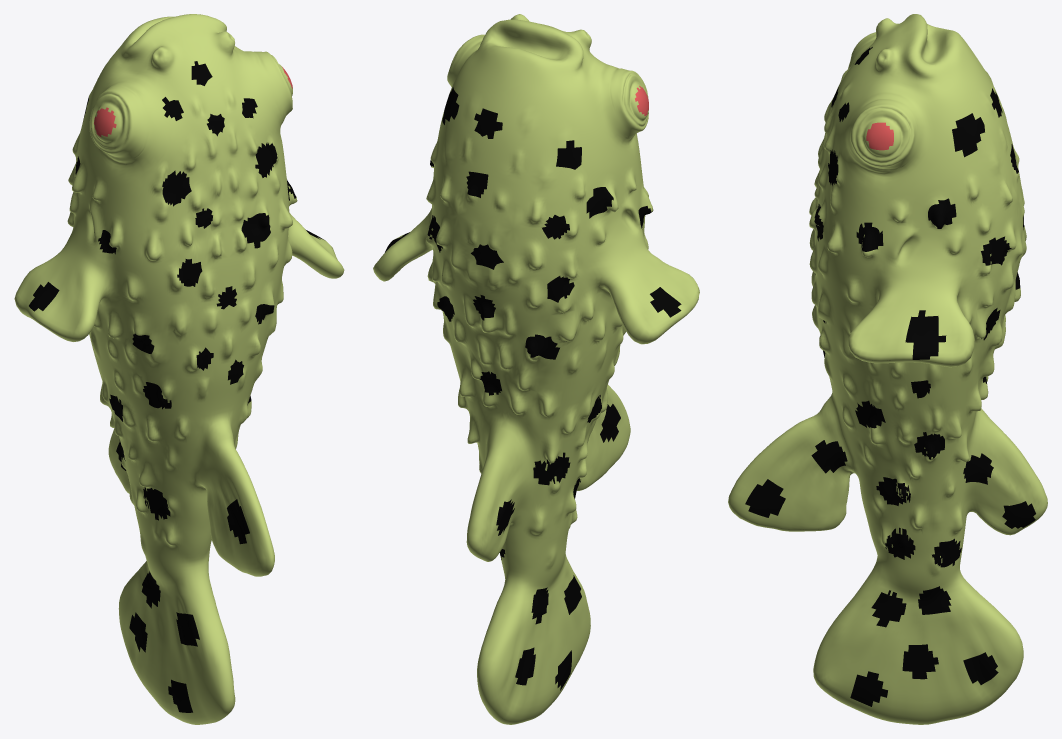
File: blobe.gltf
The picture shows the model from 3 angles, left to right: view 1: azimuth 30°, elevation 25°; view 2: azimuth 150°, elevation 25°; view 3: azimuth 270°, elevation 25°; orthographic projection.
Visible parts, largest first — view 1: Default-19421_Puffer_fish_v1, Default-Mat (×3), Default-Mat.1; view 2: Default-19421_Puffer_fish_v1, Default-Mat; view 3: Default-19421_Puffer_fish_v1, Default-Mat (×2), Default-Mat.1.
Part boxes in pixels (x1,y1,x2,y2): Default-19421_Puffer_fish_v1: (14, 14, 344, 724); Default-Mat (×3): (29, 61, 323, 712); Default-Mat.1: (94, 67, 292, 136); Default-19421_Puffer_fish_v1: (373, 14, 699, 724); Default-Mat: (385, 87, 681, 690); Default-19421_Puffer_fish_v1: (728, 14, 1047, 724); Default-Mat (×2): (745, 47, 1035, 706); Default-Mat.1: (866, 122, 893, 150).
Size of the model in its own units: 9.97 by 22.39 by 9.27.
